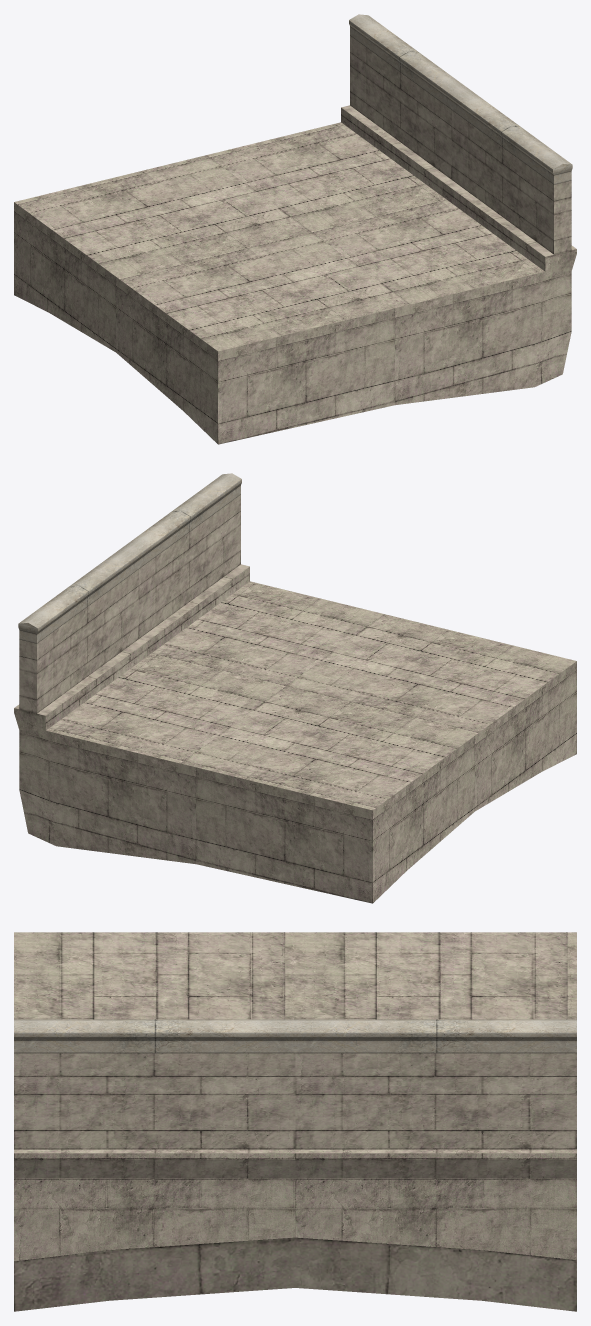
Rendered from CrownMarbleDouble.dae.
The picture shows the model from 3 angles, top to bottom: view 1: azimuth 30°, elevation 25°; view 2: azimuth 150°, elevation 25°; view 3: azimuth 270°, elevation 25°; orthographic projection. The views are drawn at different scales.
Parts seen in each view (by area): view 1: CrownMarbleDouble; view 2: CrownMarbleDouble; view 3: CrownMarbleDouble.
Boxes of the visible parts, bbox=[...] form: CrownMarbleDouble: bbox=[14, 14, 576, 444]; CrownMarbleDouble: bbox=[14, 473, 576, 903]; CrownMarbleDouble: bbox=[14, 932, 576, 1311].
Bounding box in the file's own units: 4.06 × 2.34 × 4.
Materials: 2 (2 with a texture image).
